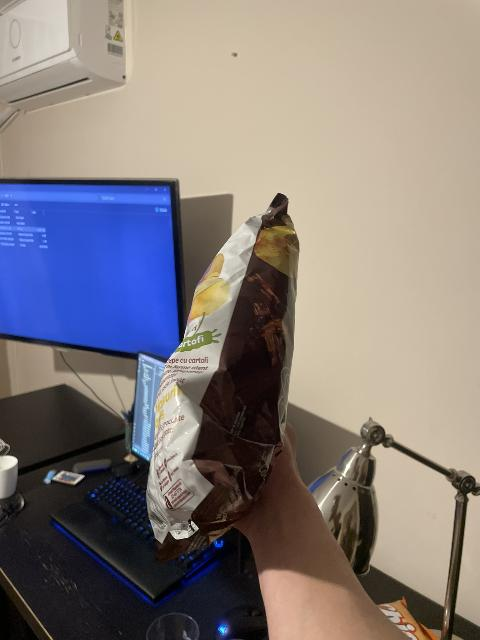Lays Beef Grilled Ribs 125g: (144, 202, 298, 554)
